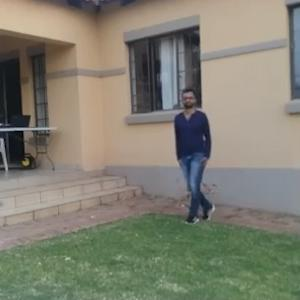follow: (173, 86, 219, 223)
